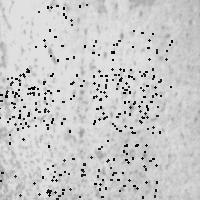pitted_surface: (1, 1, 199, 199), (93, 68, 152, 128), (70, 40, 128, 99), (100, 75, 160, 132), (111, 30, 171, 86), (98, 140, 156, 196), (11, 75, 70, 130), (0, 67, 52, 125), (0, 89, 48, 148), (35, 4, 86, 59), (51, 156, 110, 200), (0, 168, 51, 200)
